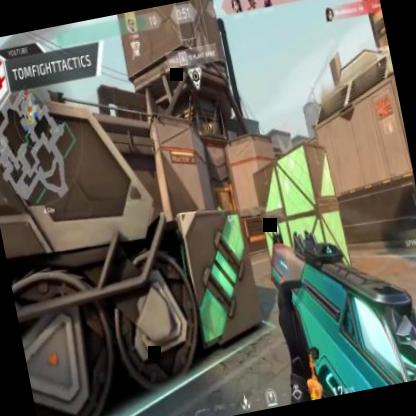enemy: (216, 204, 223, 220)
enemy_head: (217, 204, 220, 209)
